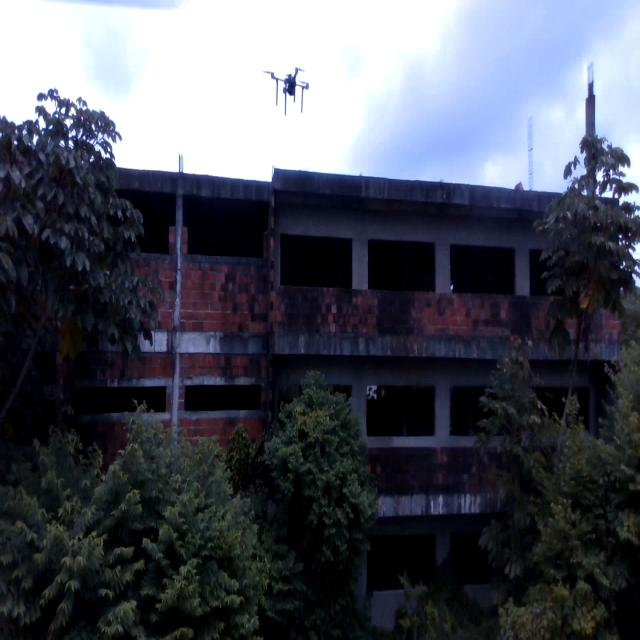-uav-: (258, 40, 321, 127)
